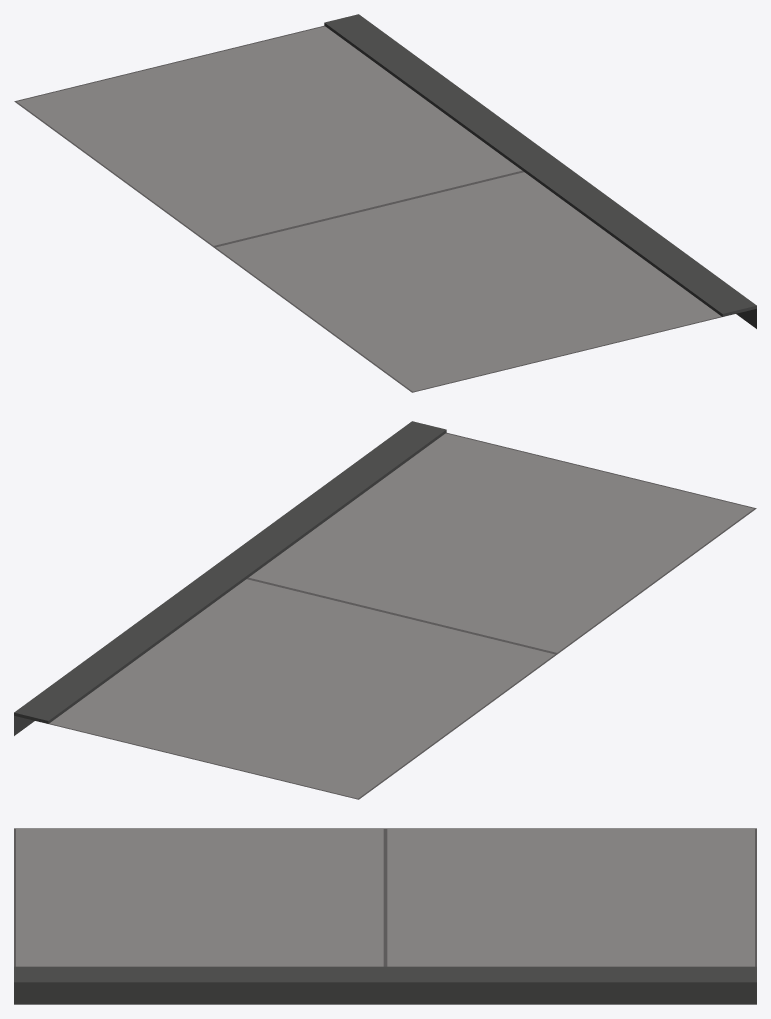
File: M_SideWalk350x175_02.FBX
The picture shows the model from 3 angles, top to bottom: view 1: azimuth 30°, elevation 25°; view 2: azimuth 150°, elevation 25°; view 3: azimuth 270°, elevation 25°; orthographic projection. The views are drawn at different scales.
Parts seen in each view (by area): view 1: M_SideWalk350x175_02; view 2: M_SideWalk350x175_02; view 3: M_SideWalk350x175_02.
Part boxes in pixels (x1,y1,x2,y2): M_SideWalk350x175_02: (14, 14, 756, 392); M_SideWalk350x175_02: (14, 421, 756, 799); M_SideWalk350x175_02: (14, 828, 756, 1004).
Size of the model in its own units: 1.75 by 0.115 by 3.5.
